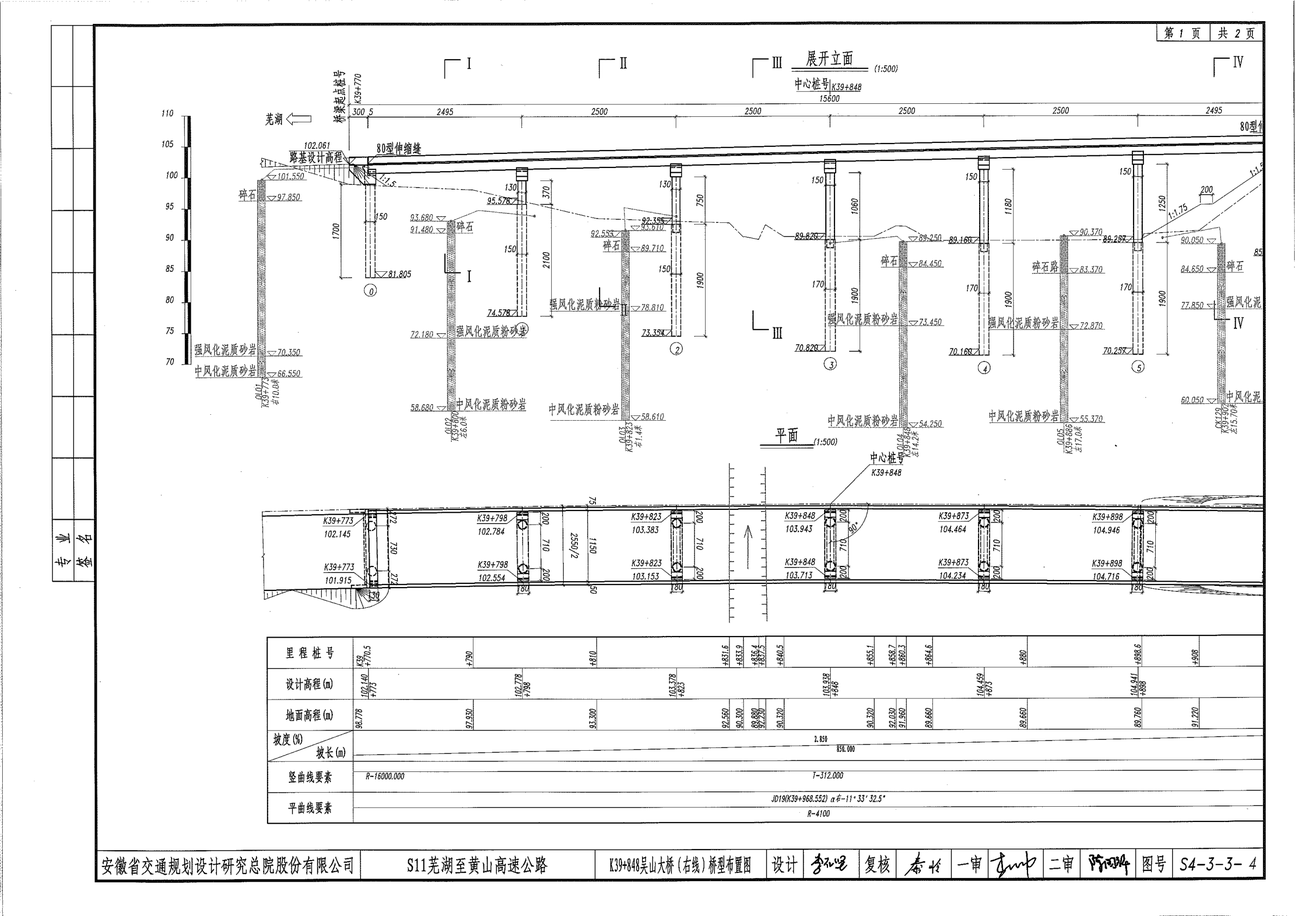A: (175, 44, 1278, 384)
